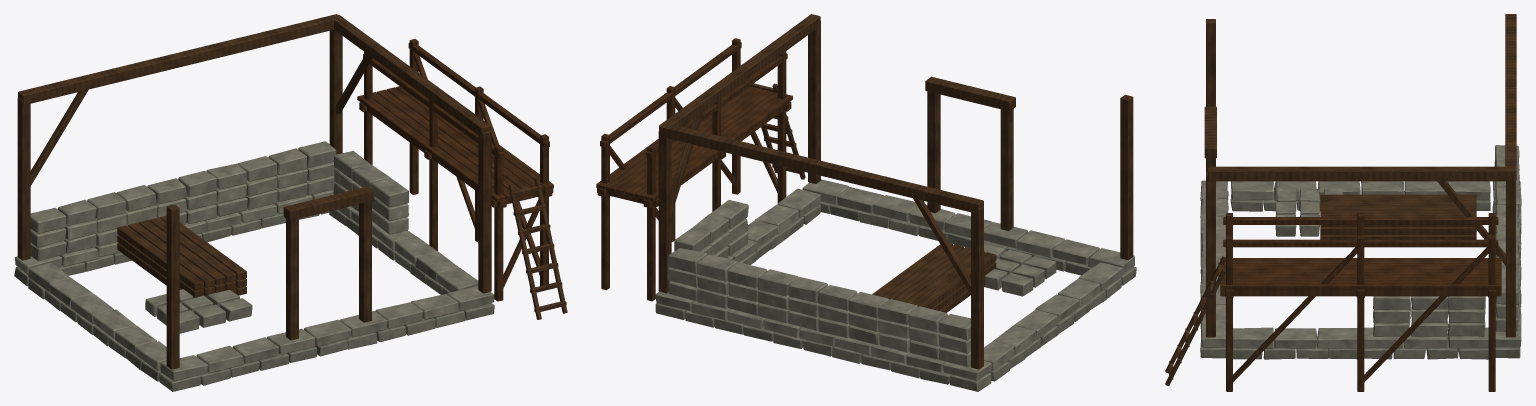
The model's file is house_foundation.glb.
The picture shows the model from 3 angles, left to right: view 1: azimuth 30°, elevation 25°; view 2: azimuth 150°, elevation 25°; view 3: azimuth 270°, elevation 25°; orthographic projection.
Visible parts, largest first — view 1: house_foundation_00, house_foundation_02, house_foundation_03, house_foundation_01; view 2: house_foundation_00, house_foundation_02, house_foundation_03, house_foundation_01; view 3: house_foundation_03, house_foundation_02, house_foundation_00, house_foundation_01.
Boxes of the visible parts, x1,y1,x2,y2 form: house_foundation_00: (15, 141, 494, 381); house_foundation_02: (17, 14, 567, 369); house_foundation_03: (357, 39, 553, 301); house_foundation_01: (14, 209, 494, 391); house_foundation_00: (655, 179, 1134, 380); house_foundation_02: (658, 14, 1133, 369); house_foundation_03: (596, 38, 792, 301); house_foundation_01: (655, 201, 1136, 391); house_foundation_03: (1220, 213, 1501, 391); house_foundation_02: (1165, 14, 1516, 385); house_foundation_00: (1200, 145, 1521, 348); house_foundation_01: (1200, 191, 1521, 359).
Size of the model in its own units: 7.34 by 3.32 by 5.7.
4 materials, 4 textured.
